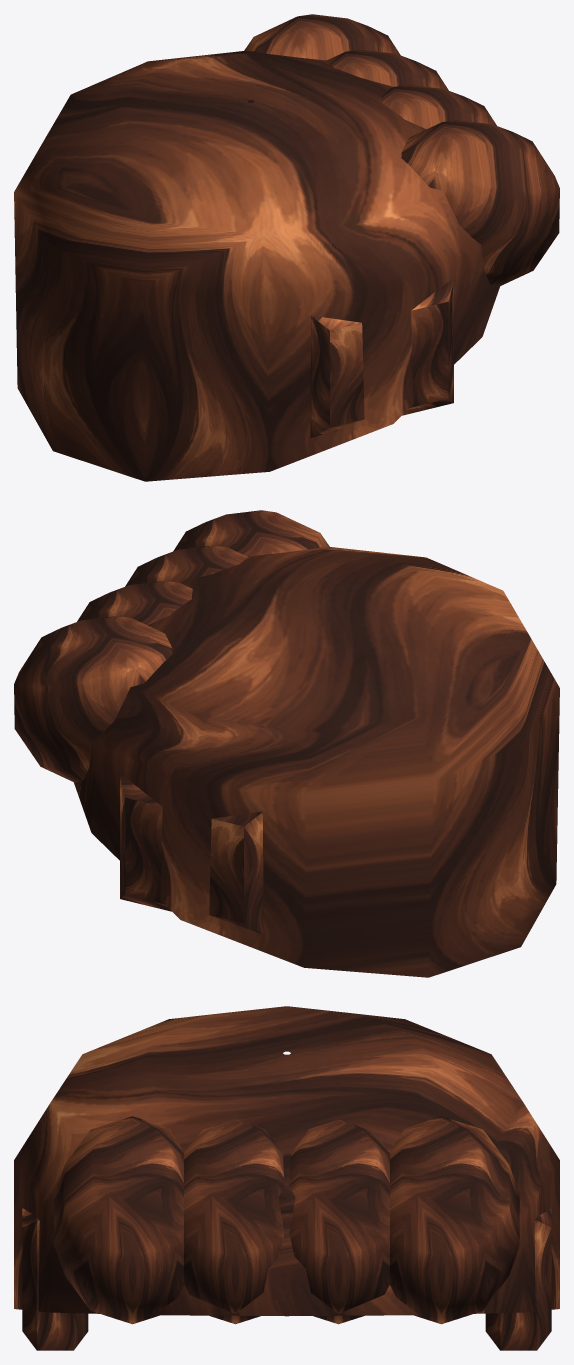
File: hair.glb
The picture shows the model from 3 angles, top to bottom: view 1: azimuth 30°, elevation 25°; view 2: azimuth 150°, elevation 25°; view 3: azimuth 270°, elevation 25°; orthographic projection. The views are drawn at different scales.
Visible parts, largest first — view 1: head; view 2: head; view 3: head.
Boxes of the visible parts, x1,y1,x2,y2 form: head: [14, 14, 559, 481]; head: [14, 510, 559, 977]; head: [14, 1006, 559, 1350].
Size of the model in its own units: 0.3645 by 0.2421 by 0.3723.
1 material, 1 textured.
